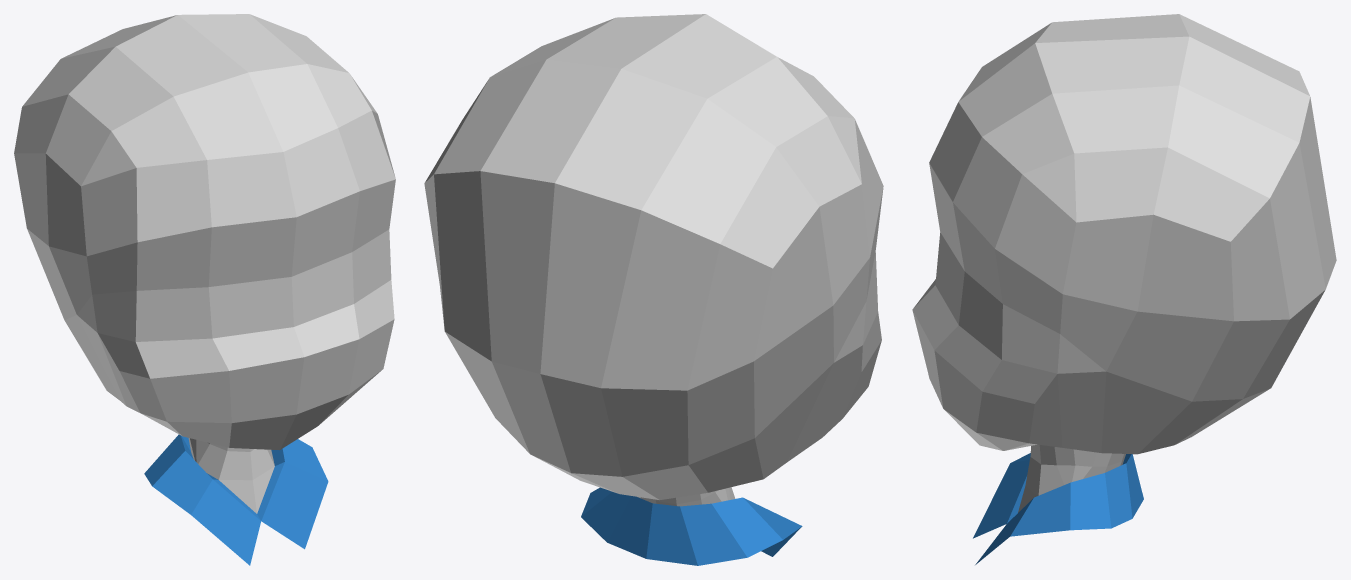
The model's file is lila-head-only.fbx.
3 views of the same model, side by side, from view 1: azimuth 30°, elevation 25°; view 2: azimuth 150°, elevation 25°; view 3: azimuth 270°, elevation 25° (orthographic). The views are drawn at different scales.
Visible parts, largest first — view 1: lina-body.001; view 2: lina-body.001; view 3: lina-body.001.
Boxes of the visible parts, x1,y1,x2,y2 form: lina-body.001: (14, 14, 395, 565); lina-body.001: (424, 14, 883, 565); lina-body.001: (912, 14, 1336, 564).
Size of the model in its own units: 345 by 314 by 463.
